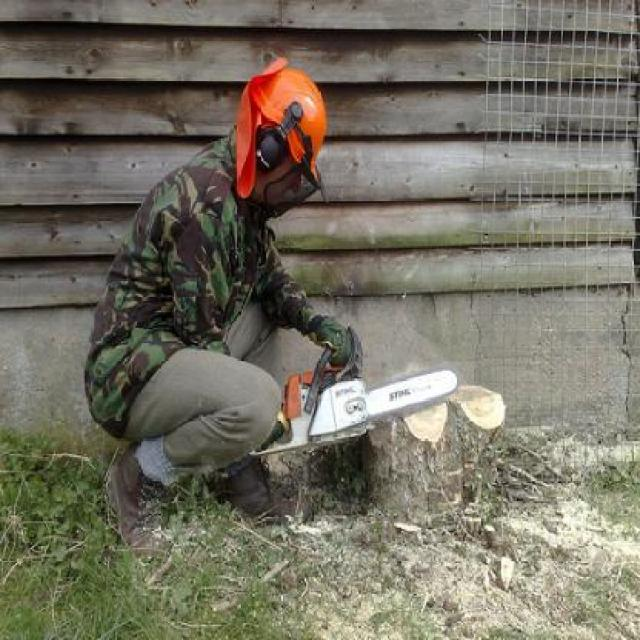Chainsaw: (250, 330, 456, 461)
